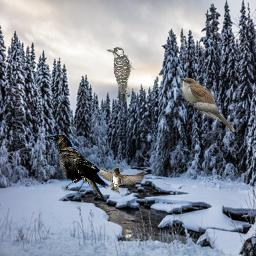Crow: (43, 133, 109, 200)
Cuckoo: (179, 78, 235, 132)
Swallow: (86, 158, 146, 194)
Woodpecker: (106, 47, 136, 107)
